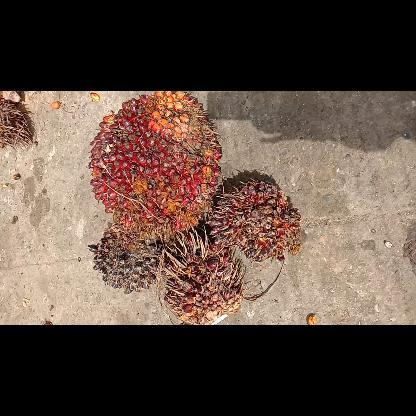TBS abnormal: (156, 228, 244, 324), (204, 178, 304, 262), (87, 224, 164, 296)
TBS masak: (86, 92, 224, 246)
